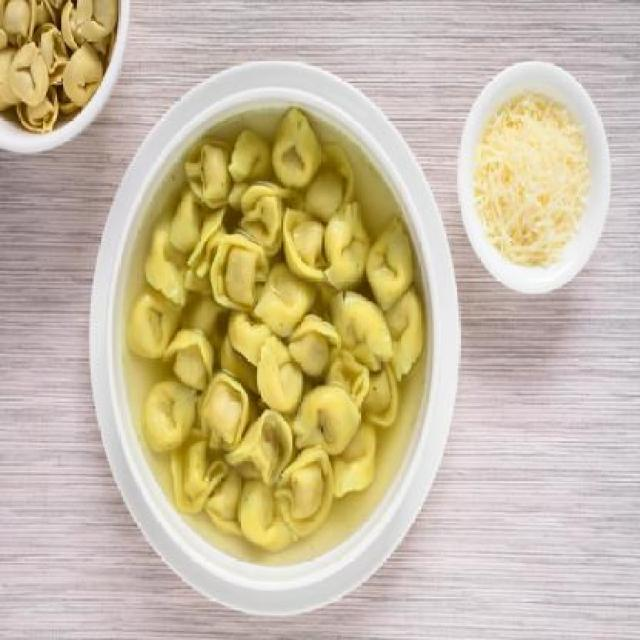Tortellini in broth: (134, 134, 406, 530)
